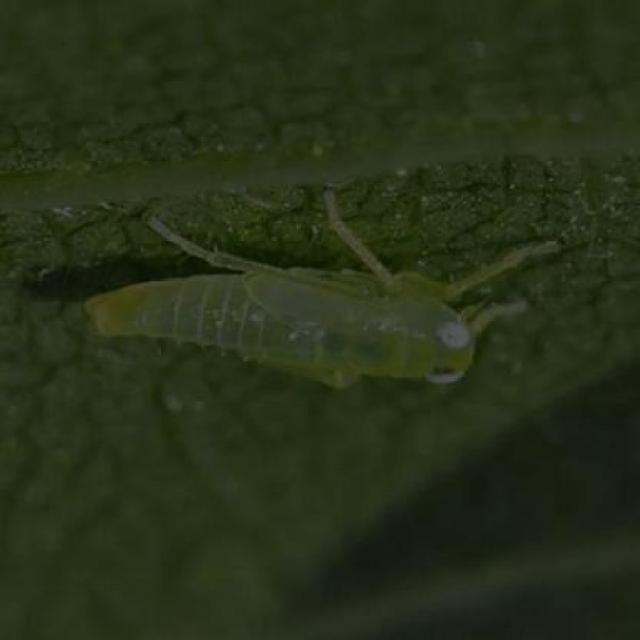green-leafhopper: (86, 238, 509, 391)
